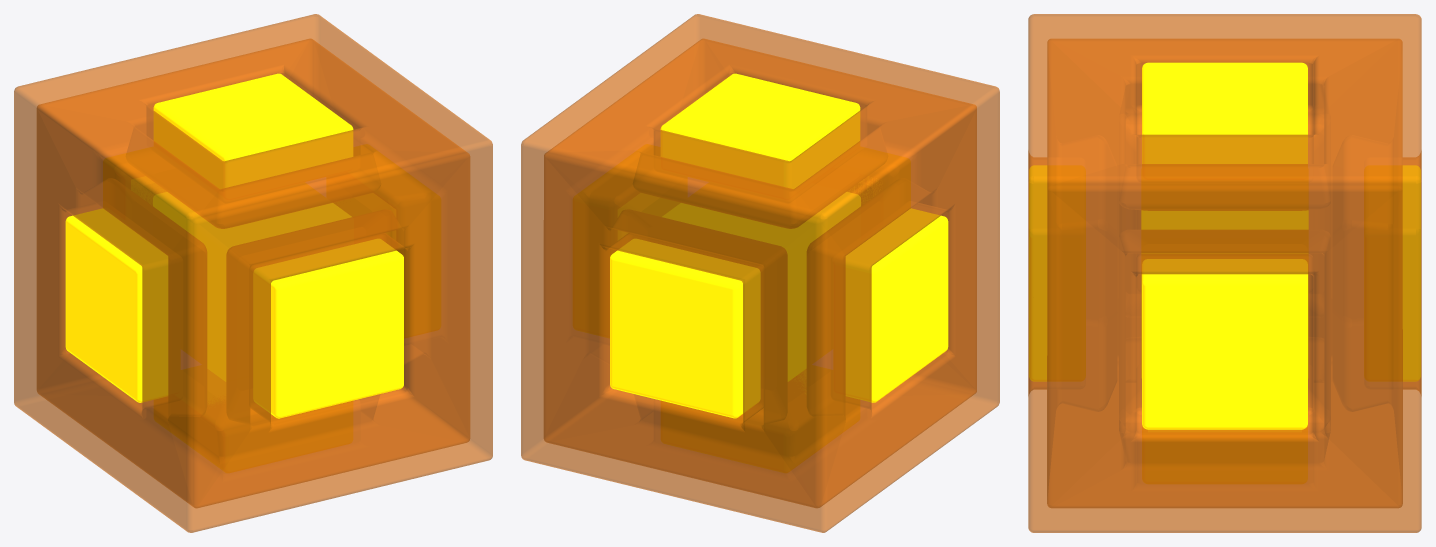
File: orange(1).fbx
3 renders of one model, left to right at view 1: azimuth 30°, elevation 25°; view 2: azimuth 150°, elevation 25°; view 3: azimuth 270°, elevation 25°, orthographic. The views are drawn at different scales.
Parts seen in each view (by area): view 1: orange_whole; view 2: orange_whole; view 3: orange_whole.
Part boxes in pixels (x1=…): orange_whole: x1=14, y1=14, x2=492, y2=532; orange_whole: x1=521, y1=14, x2=999, y2=532; orange_whole: x1=1028, y1=14, x2=1421, y2=532.
Bounding box in the file's own units: 200 × 200 × 200.
